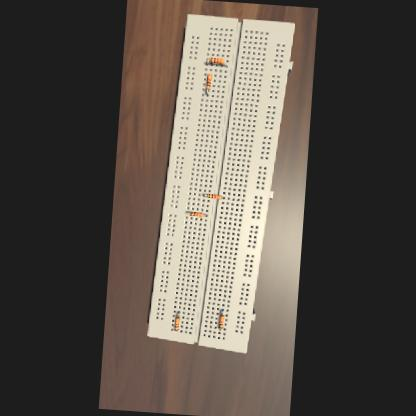breadboard: (146, 12, 296, 354)
resistor: (209, 56, 224, 63), (206, 73, 212, 89), (174, 316, 180, 330), (188, 210, 202, 216), (207, 192, 221, 198), (218, 314, 224, 328)
wire: (206, 88, 208, 95), (206, 58, 208, 64), (224, 60, 226, 66), (221, 308, 223, 314), (178, 310, 179, 316), (203, 214, 206, 216), (204, 194, 206, 196), (221, 196, 223, 198), (186, 211, 188, 212)
